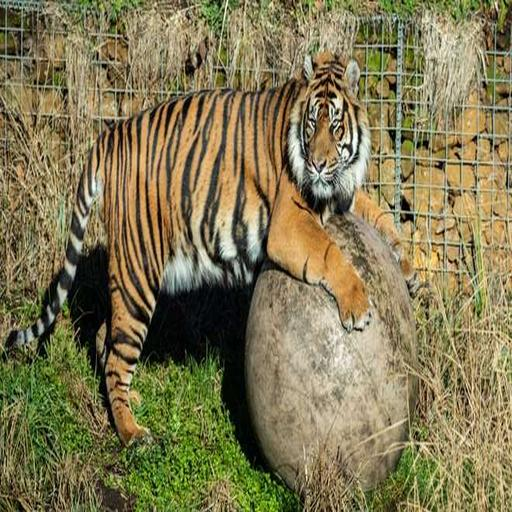Tiger: (0, 48, 438, 452)
